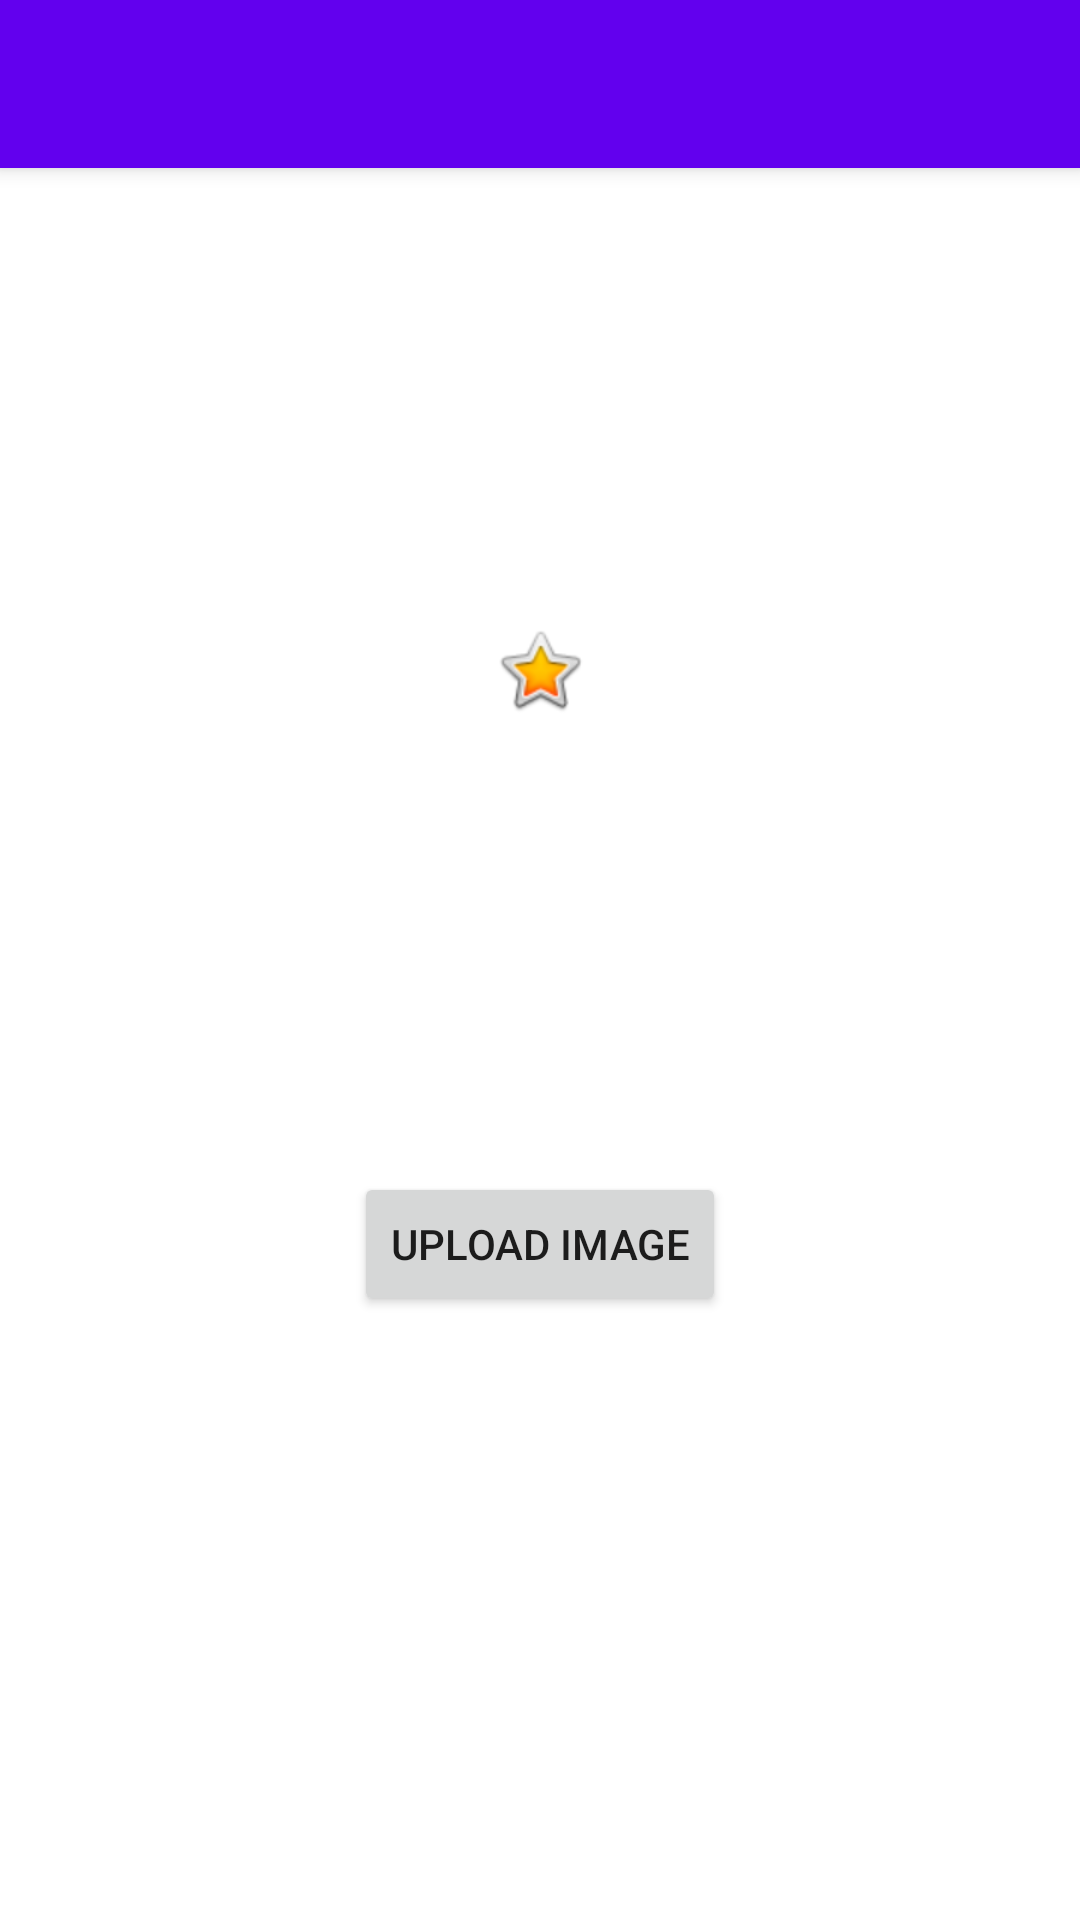

Named icons in this screenshot (1080px x 1920px) and their bounding boxes, {"x1": x1, "y1": y1, "x2": x2, "y2": y2}:
star on: {"x1": 501, "y1": 632, "x2": 581, "y2": 710}
